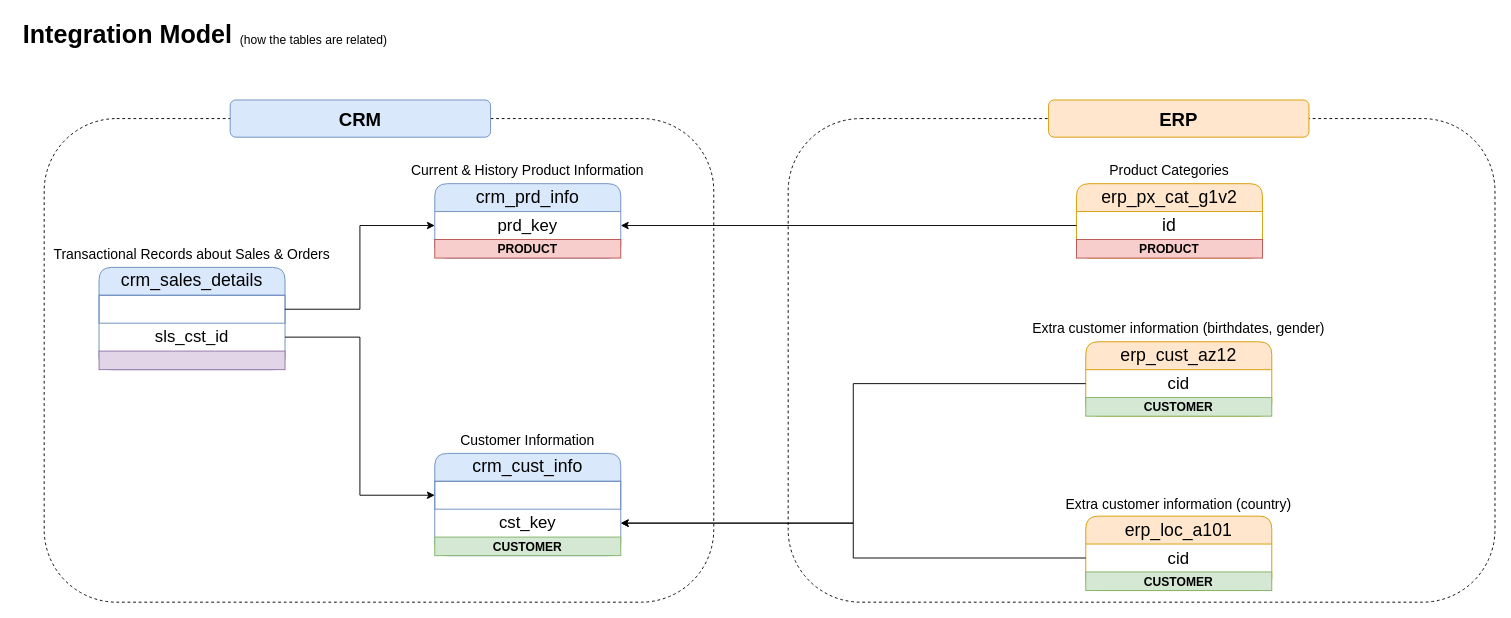
This 1511x618 diagram has some shape labels left out. The centre of each missing label's shape, as x and y in pixels:
cst_id: [527,494]
SALES: [191,360]
sls_prd_key: [191,308]
